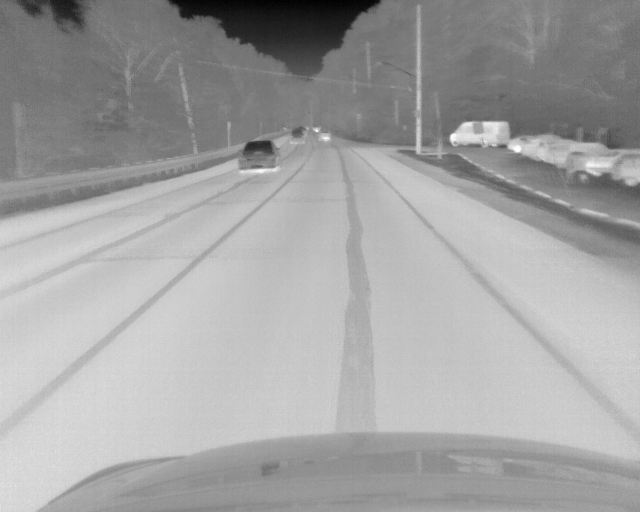car: (583, 149, 640, 188), (552, 139, 609, 170), (449, 118, 509, 147), (239, 138, 278, 171), (526, 133, 568, 162), (289, 126, 306, 146), (512, 135, 527, 154), (317, 131, 331, 142), (312, 125, 321, 131)
